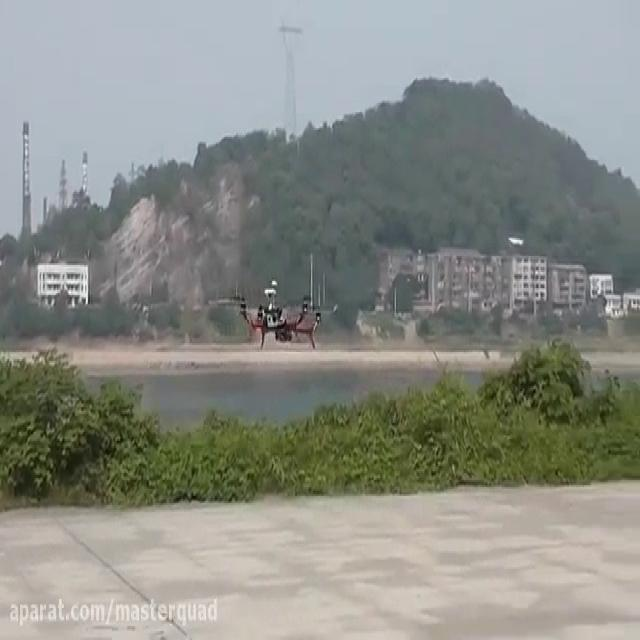drone: (238, 276, 324, 356)
